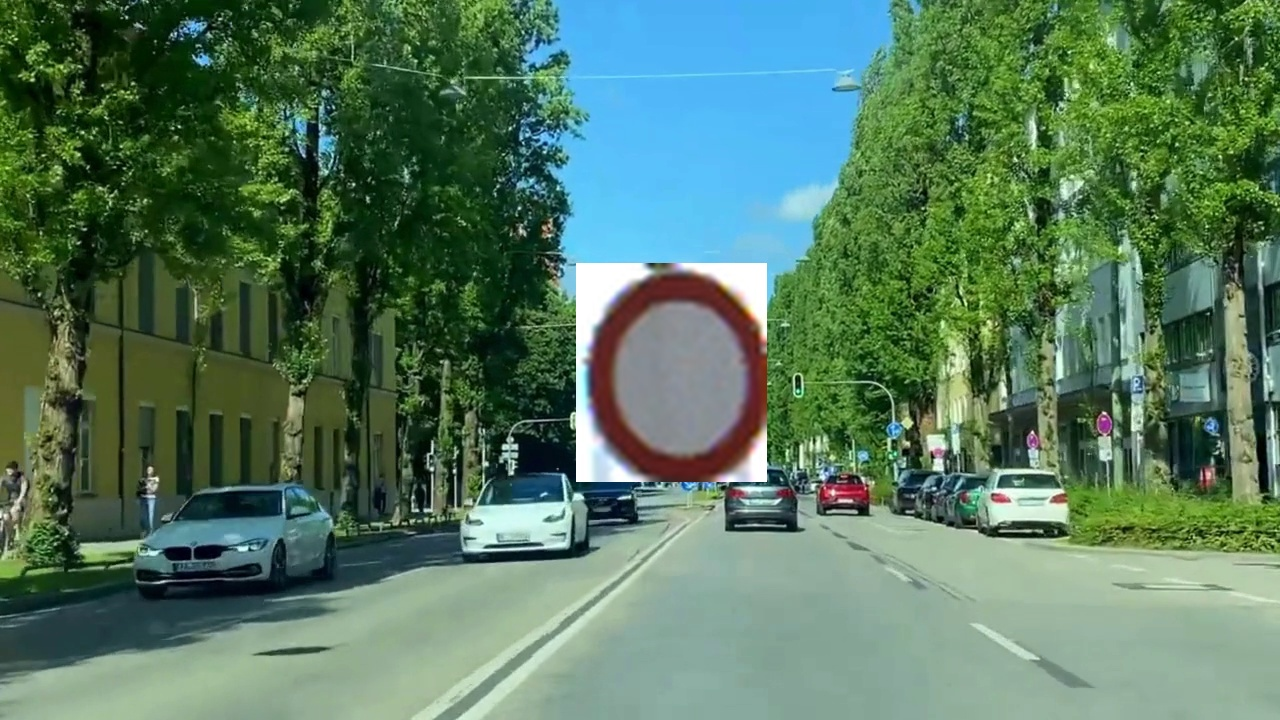No vehicles: (576, 263, 767, 482)
